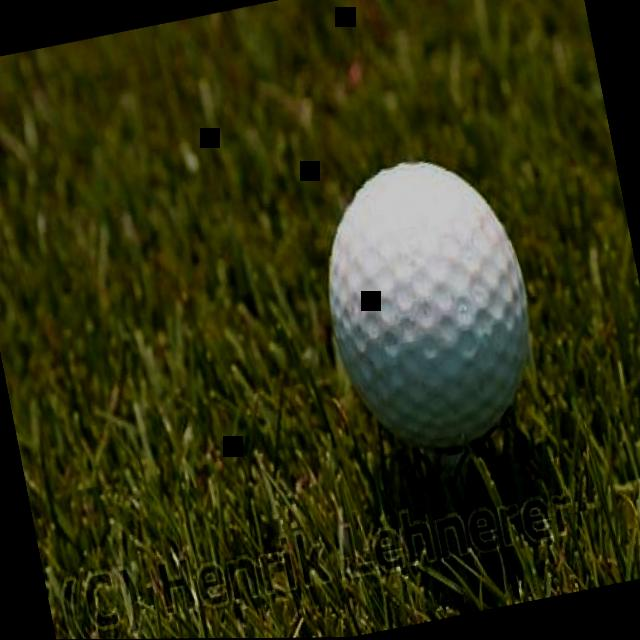golf ball: (298, 134, 564, 485)
